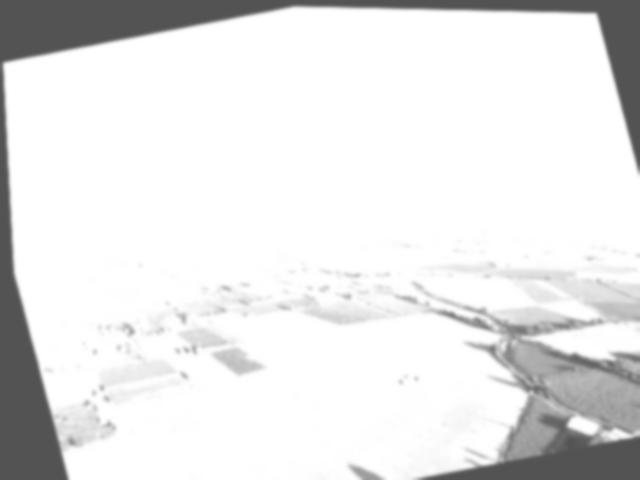hedef: (368, 358, 442, 403)
